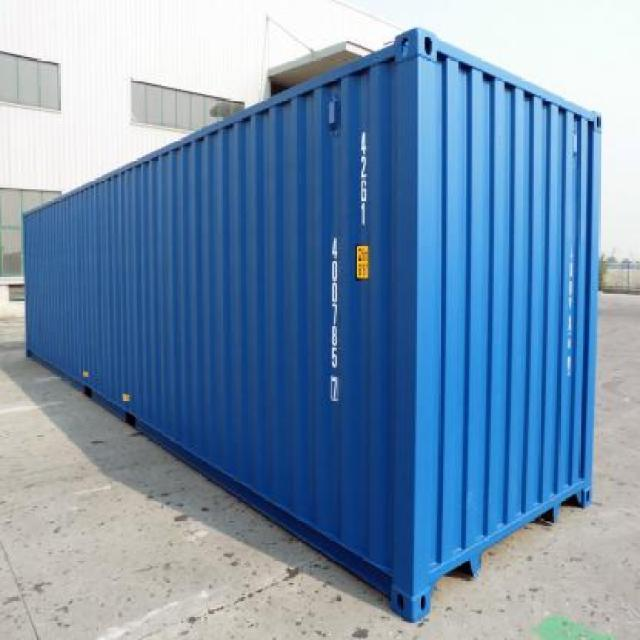ISO: (349, 123, 372, 234)
container_number: (325, 235, 339, 399)
